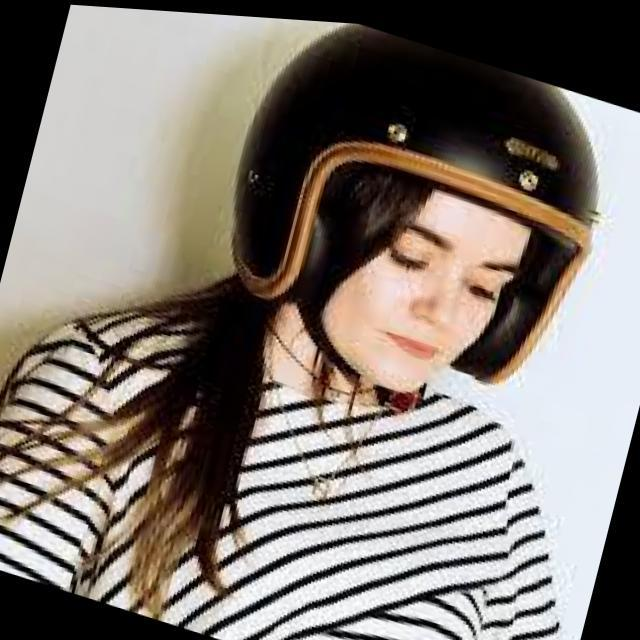Helmet: (226, 8, 608, 404)
